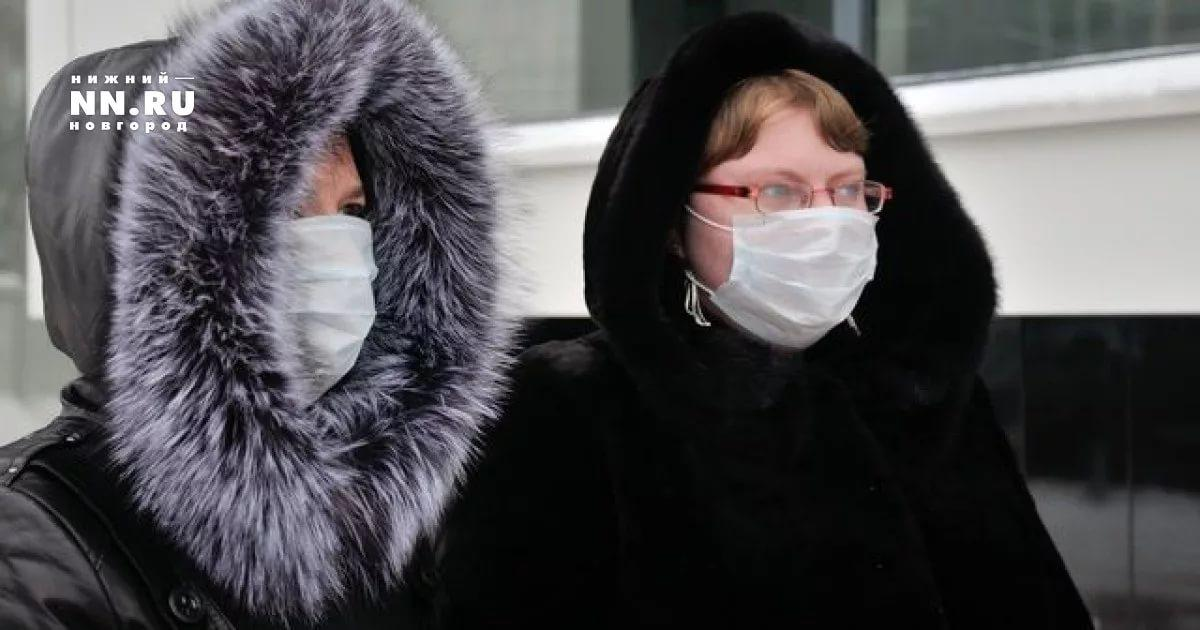mask: (675, 98, 884, 347), (257, 124, 378, 410)
